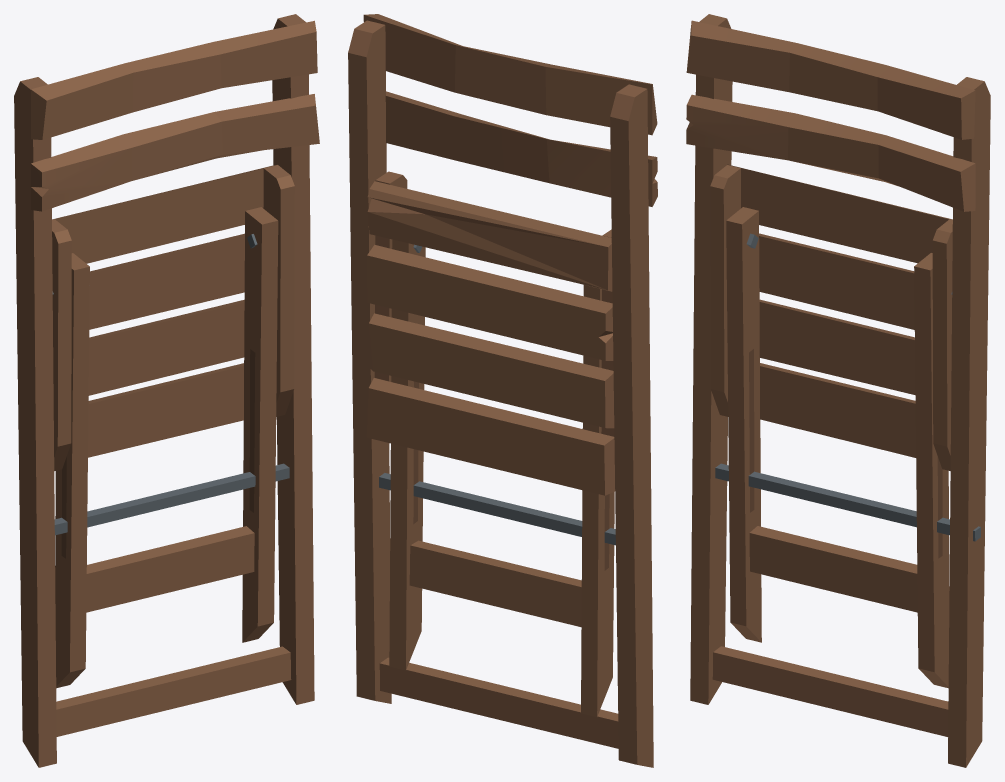
File: SM_Prop_Cafe_Chair_Folding_02_Folded.obj
The picture shows the model from 3 angles, left to right: view 1: azimuth 30°, elevation 25°; view 2: azimuth 150°, elevation 25°; view 3: azimuth 330°, elevation 25°; orthographic projection.
Parts seen in each view (by area): view 1: SM_Prop_Cafe_Chair_Folding_02_Folded_0; view 2: SM_Prop_Cafe_Chair_Folding_02_Folded_0; view 3: SM_Prop_Cafe_Chair_Folding_02_Folded_0.
Boxes of the visible parts, x1,y1,x2,y2 form: SM_Prop_Cafe_Chair_Folding_02_Folded_0: [14, 14, 319, 767]; SM_Prop_Cafe_Chair_Folding_02_Folded_0: [348, 14, 657, 767]; SM_Prop_Cafe_Chair_Folding_02_Folded_0: [686, 14, 990, 767].
Bounding box in the file's own units: 0.4686 × 1.07 × 0.0833.
1 material, 1 textured.
